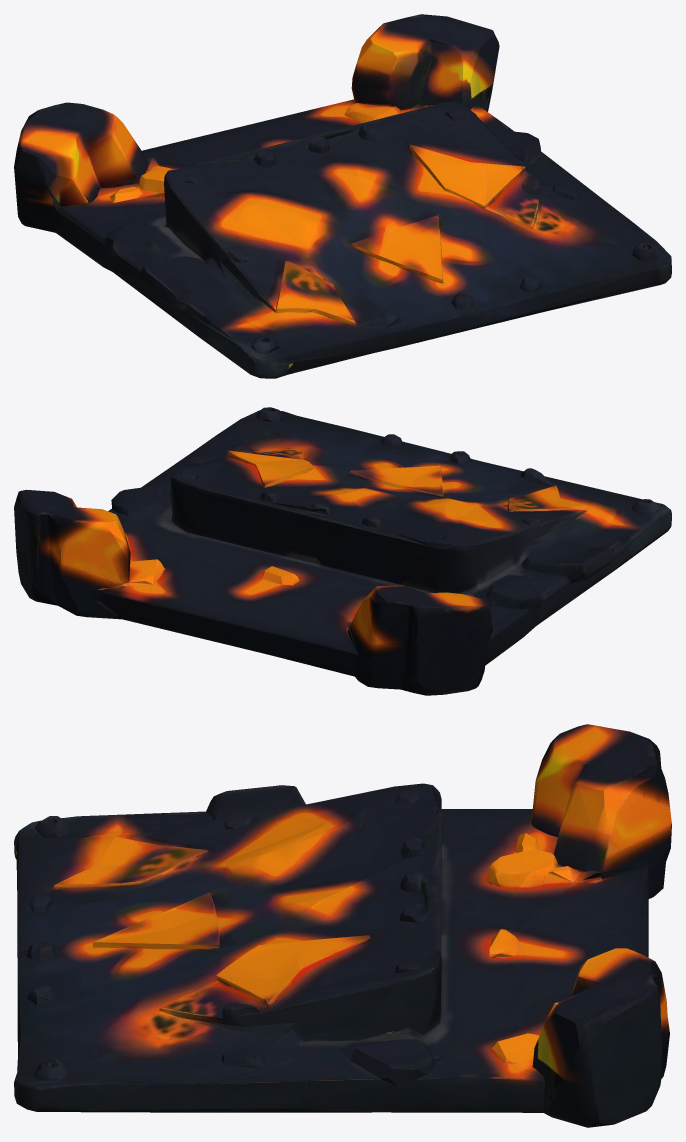
Rendered from boost-pad.glb.
3 renders of one model, top to bottom at view 1: azimuth 30°, elevation 25°; view 2: azimuth 150°, elevation 25°; view 3: azimuth 270°, elevation 25°, orthographic. The views are drawn at different scales.
Bounding box in the file's own units: 1.9 × 0.3459 × 1.71.
Materials: 1 (1 with a texture image).
